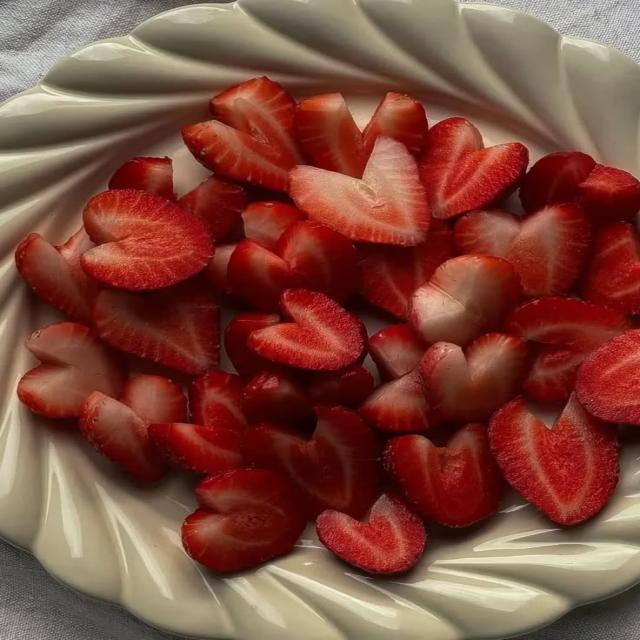strawberry sliced: (490, 397, 619, 524), (290, 138, 431, 245), (244, 407, 380, 517), (80, 190, 213, 290), (506, 298, 631, 401), (455, 204, 591, 297), (182, 470, 306, 571), (385, 424, 503, 527), (93, 280, 219, 373), (421, 118, 528, 218), (18, 323, 126, 418), (410, 256, 521, 345), (420, 333, 530, 422), (247, 290, 365, 370), (360, 219, 453, 319), (316, 494, 426, 574), (520, 152, 639, 225), (210, 77, 301, 165), (182, 121, 294, 191), (15, 228, 97, 322), (79, 392, 165, 481), (506, 297, 631, 352), (276, 221, 359, 303), (294, 94, 366, 178), (576, 331, 639, 424), (582, 222, 639, 314), (227, 240, 300, 311), (149, 423, 242, 474), (360, 370, 432, 433), (520, 152, 595, 212), (178, 177, 247, 240), (362, 92, 428, 157), (576, 165, 639, 225), (225, 313, 282, 379), (243, 372, 313, 424), (523, 346, 588, 402), (454, 209, 527, 257), (189, 372, 247, 431), (119, 375, 187, 424), (368, 324, 426, 380), (242, 202, 303, 251), (307, 365, 374, 408), (108, 157, 175, 199), (203, 244, 237, 293), (350, 312, 368, 364)
